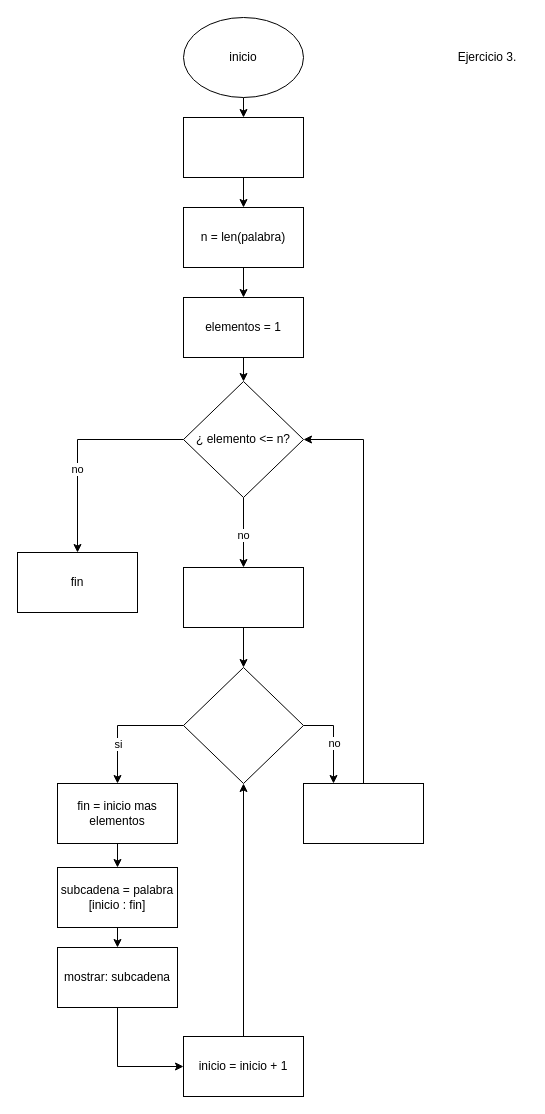
Some shapes in this 545 by 1114 pixel diagram are drawn without their labels. Each missing label, with the centre of its shape:
elementos = elementos + 1: the point at 363,813
ingrese una palabra: the point at 243,147
inicio = 0: the point at 243,597
¿ inicio < n - elementos +1?: the point at 243,725
